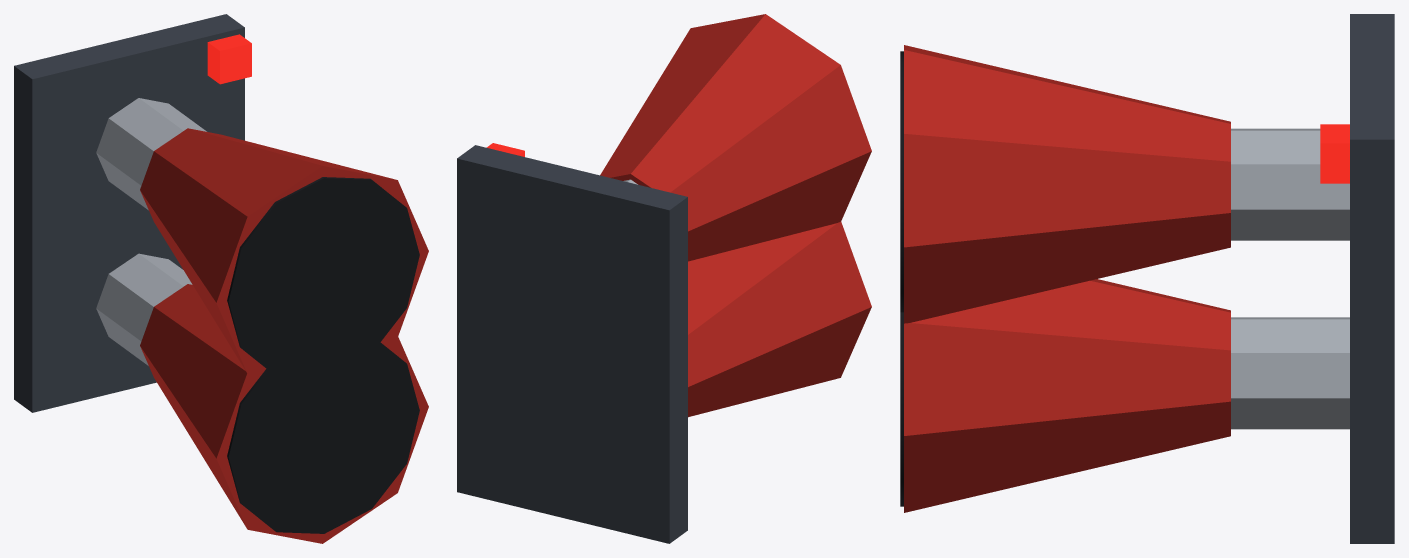
File: beacon_siren_horn.glb
The picture shows the model from 3 angles, left to right: view 1: azimuth 30°, elevation 25°; view 2: azimuth 150°, elevation 25°; view 3: azimuth 270°, elevation 25°; orthographic projection. The views are drawn at different scales.
Visible parts, largest first — view 1: beacon_siren_horn; view 2: beacon_siren_horn; view 3: beacon_siren_horn.
Part boxes in pixels (x1,y1,x2,y2): beacon_siren_horn: (14,14,428,543); beacon_siren_horn: (457,14,871,543); beacon_siren_horn: (900,14,1394,543).
Bounding box in the file's own units: 0.2 × 0.34 × 0.3325.
